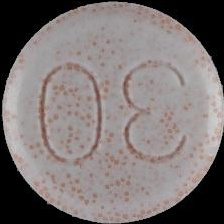21695-106: (0, 0, 224, 224)
